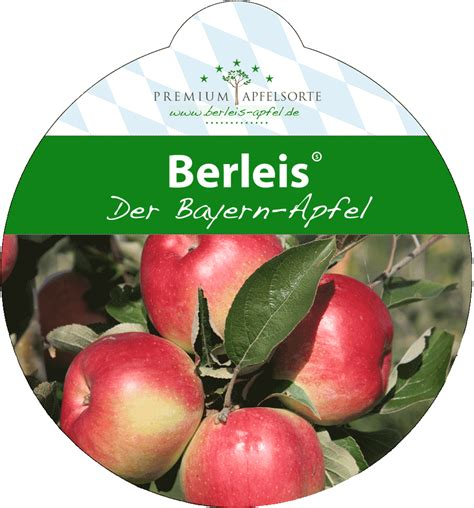apple: (58, 328, 211, 487), (176, 400, 331, 508)
